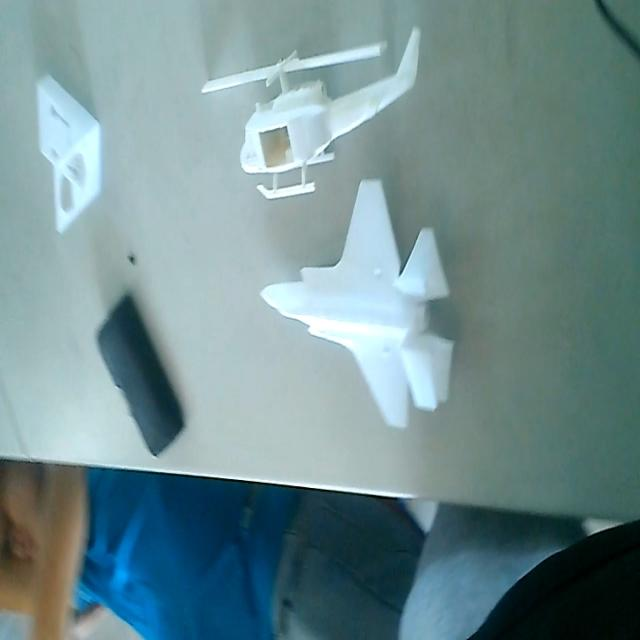Helicopter: (207, 26, 423, 203)
Jet: (258, 184, 456, 439)
